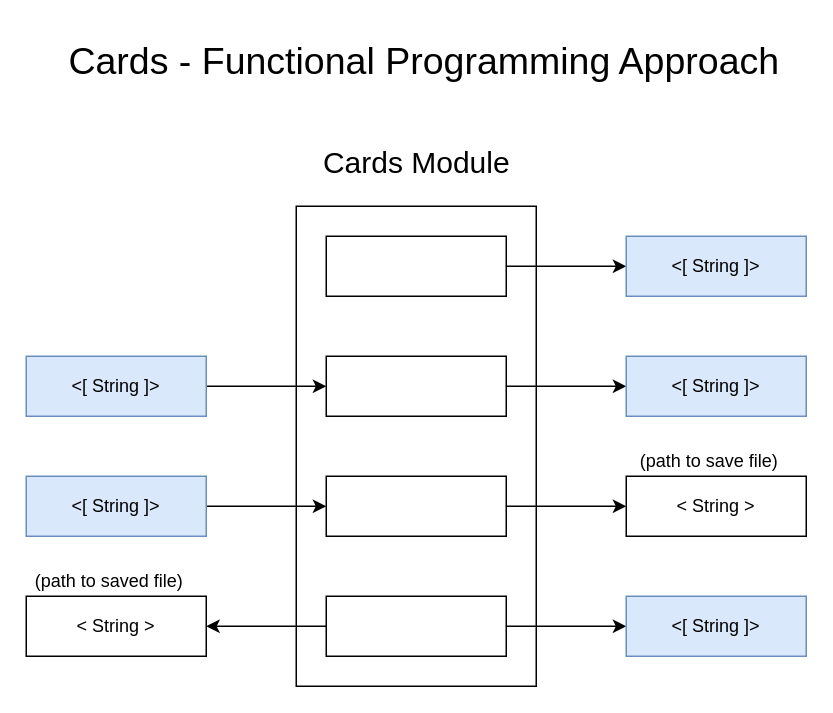
This 833x713 diagram has some shape labels left out. Here are the shapes that lost their labels. From the top down, the box of each, then its label:
(325, 235, 506, 296): Create Deck
(325, 355, 506, 416): shuffle
(325, 475, 506, 536): save
(325, 595, 506, 656): load
